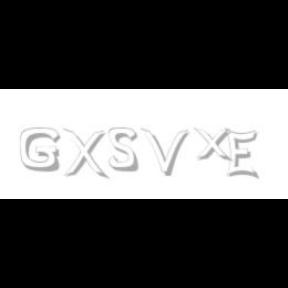E: (225, 128, 258, 180)
G: (20, 128, 60, 172)
S: (109, 128, 140, 172)
V: (141, 128, 189, 176)
X: (62, 128, 106, 180)
x: (194, 128, 236, 162)
